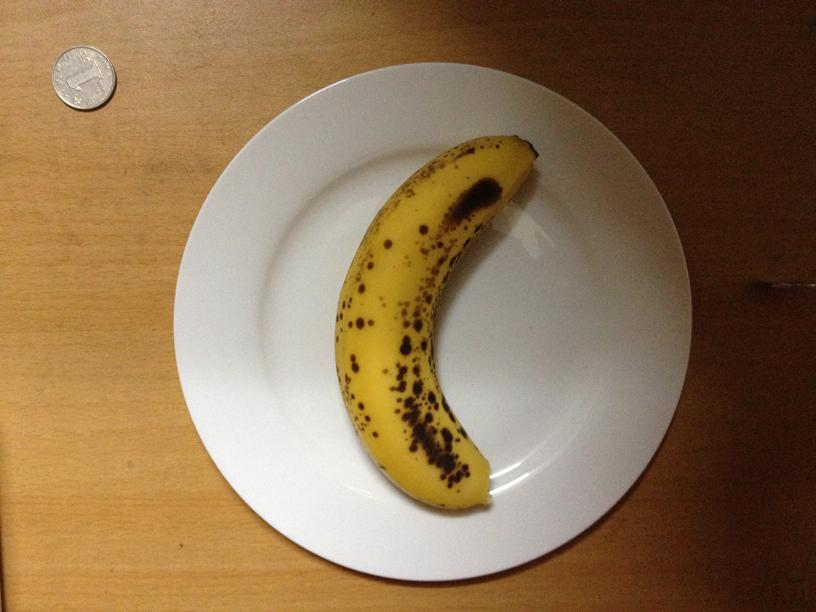banana: (335, 134, 535, 513)
coin: (49, 46, 116, 111)
